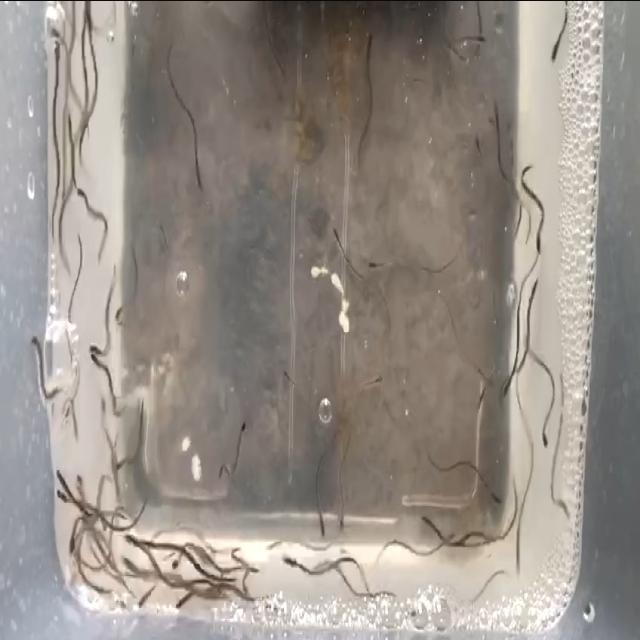inactive_glass_eel: (118, 549, 140, 583), (53, 484, 75, 510), (29, 334, 46, 364), (490, 94, 502, 136), (59, 396, 72, 434), (120, 528, 144, 548), (512, 538, 524, 578), (547, 33, 561, 67), (54, 468, 70, 496), (363, 27, 377, 59), (110, 296, 124, 326), (558, 494, 572, 524), (66, 527, 77, 563), (438, 525, 456, 547), (194, 169, 207, 199), (174, 586, 192, 607), (51, 28, 62, 62), (82, 0, 94, 31), (237, 413, 247, 448), (365, 368, 384, 386), (369, 252, 386, 272), (112, 455, 125, 481), (501, 374, 513, 402), (64, 108, 76, 136), (540, 418, 550, 451), (472, 26, 487, 48), (89, 339, 102, 364), (137, 586, 155, 604), (280, 554, 298, 572), (283, 368, 297, 391), (530, 280, 540, 312), (85, 352, 106, 367), (318, 516, 328, 546), (331, 225, 342, 252), (486, 490, 504, 506), (532, 232, 544, 256), (418, 511, 434, 528), (338, 508, 348, 535), (74, 182, 85, 202)
